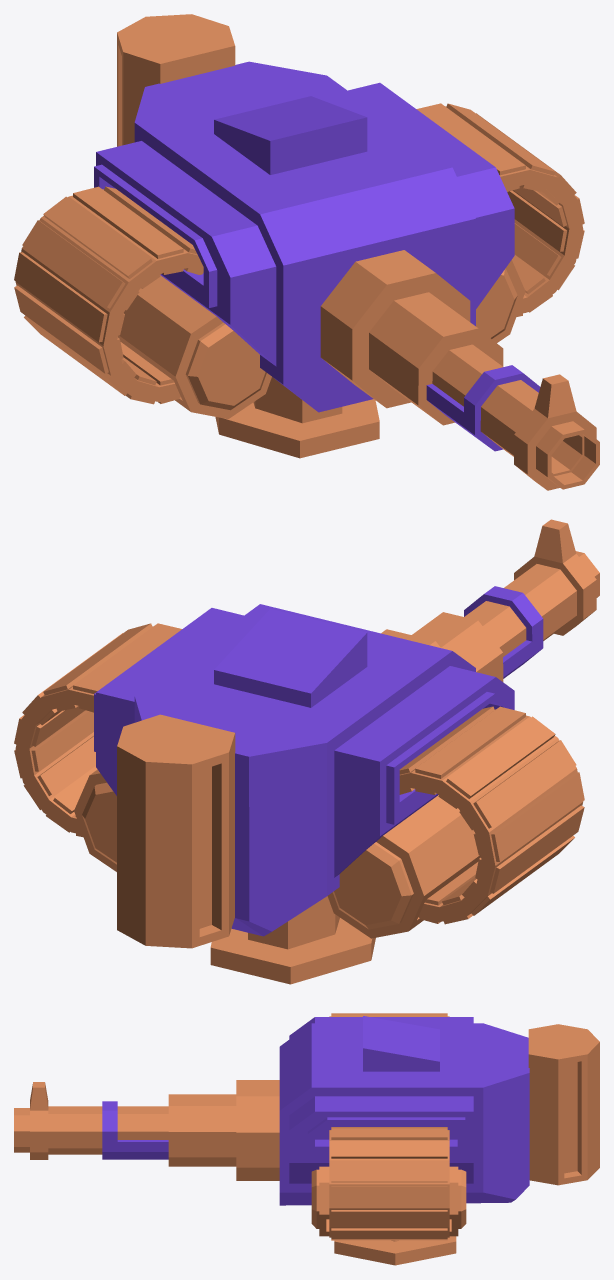
The model's file is Gatling Turret FBX.fbx.
3 renders of one model, top to bottom at view 1: azimuth 30°, elevation 25°; view 2: azimuth 150°, elevation 25°; view 3: azimuth 270°, elevation 25°, orthographic. The views are drawn at different scales.
Parts seen in each view (by area): view 1: Gattling Body, Gattling Rounds, Gattling Barrel Base, Bullet Canisters, Gattling Barrel End, Gattling Back, Gattling Pillar, Gatting Guard; view 2: Gattling Body, Gattling Rounds, Gattling Back, Bullet Canisters, Gattling Barrel End, Gattling Pillar, Gattling Barrel Base, Gatting Guard; view 3: Gattling Body, Gattling Rounds, Gattling Back, Gattling Barrel Base, Gattling Barrel End, Gattling Pillar, Bullet Canisters, Gatting Guard.
Part boxes in pixels (x1=…): Gattling Body: x1=94, y1=61, x2=514, y2=412; Gattling Rounds: x1=14, y1=103, x2=584, y2=404; Gattling Barrel Base: x1=320, y1=250, x2=503, y2=425; Bullet Canisters: x1=118, y1=260, x2=525, y2=419; Gattling Barrel End: x1=432, y1=344, x2=599, y2=490; Gattling Back: x1=117, y1=14, x2=235, y2=146; Gattling Pillar: x1=215, y1=377, x2=379, y2=458; Gatting Guard: x1=426, y1=365, x2=540, y2=451; Gattling Body: x1=94, y1=604, x2=514, y2=936; Gattling Rounds: x1=14, y1=623, x2=584, y2=924; Gattling Back: x1=117, y1=714, x2=235, y2=948; Bullet Canisters: x1=74, y1=769, x2=480, y2=938; Gattling Barrel End: x1=464, y1=519, x2=599, y2=656; Gattling Pillar: x1=210, y1=896, x2=375, y2=984; Gattling Barrel Base: x1=381, y1=612, x2=503, y2=681; Gatting Guard: x1=464, y1=586, x2=543, y2=678; Gattling Body: x1=279, y1=1016, x2=529, y2=1205; Gattling Rounds: x1=329, y1=1013, x2=449, y2=1240; Gattling Back: x1=528, y1=1024, x2=599, y2=1185; Gattling Barrel Base: x1=168, y1=1080, x2=279, y2=1180; Gattling Barrel End: x1=14, y1=1082, x2=168, y2=1159; Gattling Pillar: x1=334, y1=1236, x2=456, y2=1265; Bullet Canisters: x1=311, y1=1166, x2=466, y2=1236; Gatting Guard: x1=102, y1=1101, x2=168, y2=1159.
Size of the model in its own units: 160 by 95.9 by 245.
